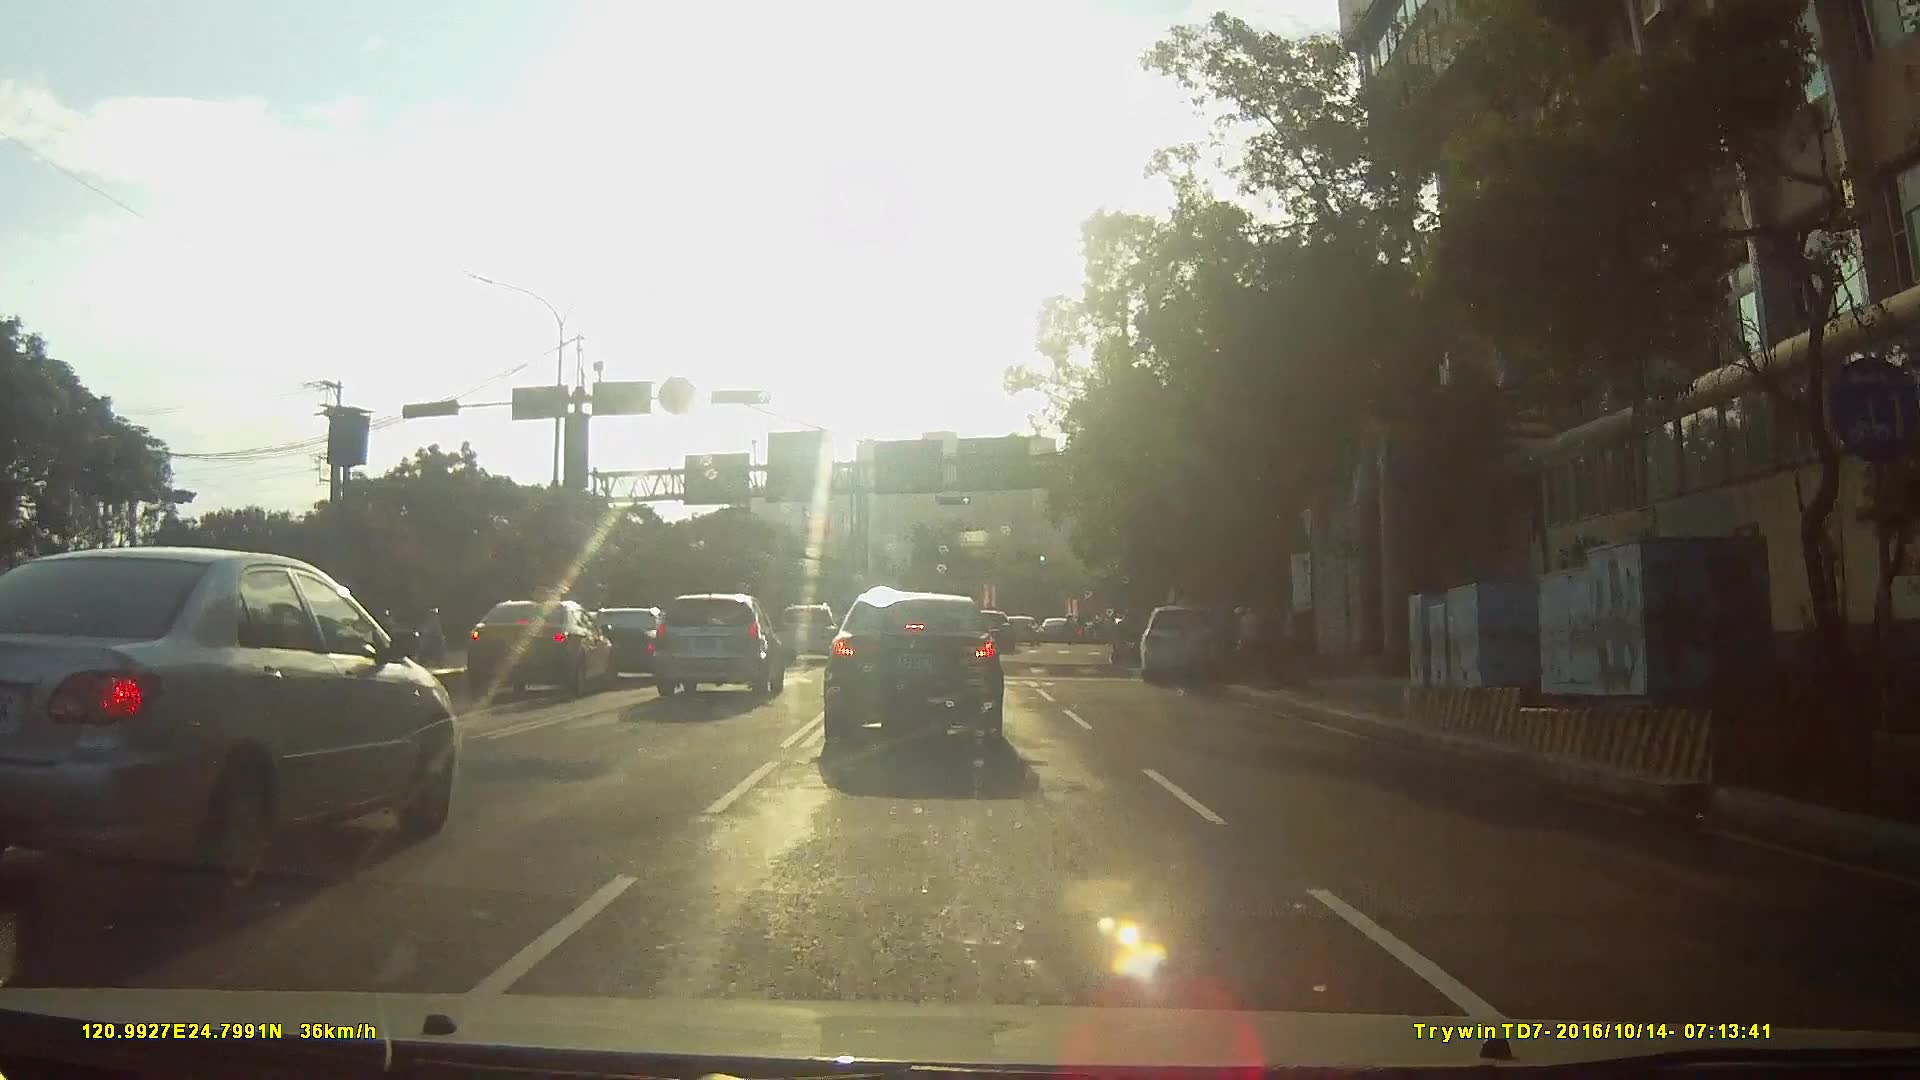pedestrian: (1234, 605, 1266, 671)
rider: (420, 605, 448, 668)
vehicle: (1, 542, 480, 904), (814, 599, 1021, 773), (437, 595, 602, 698), (648, 589, 785, 700), (1138, 604, 1239, 688), (564, 603, 668, 681), (774, 600, 844, 665), (962, 608, 1019, 655), (1006, 613, 1045, 645), (1040, 615, 1080, 643)
